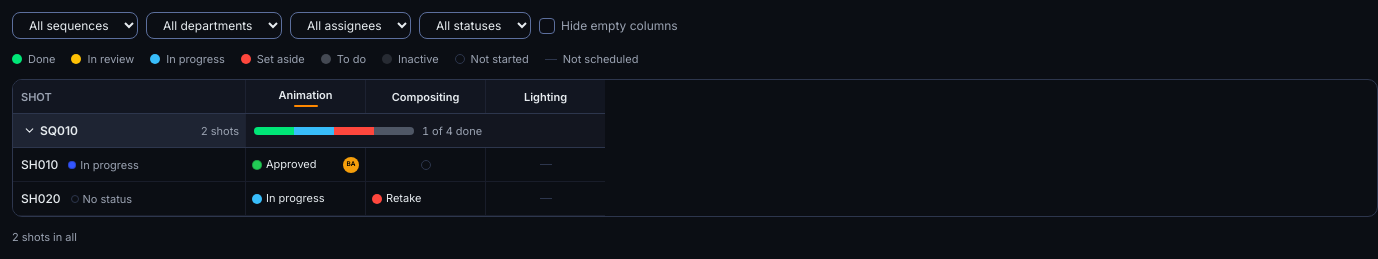
Test: ProductionGrid › offers status and assignment on the right-click of a cell
Click the button "Approved BA": (306, 164) [246,152,365,176]
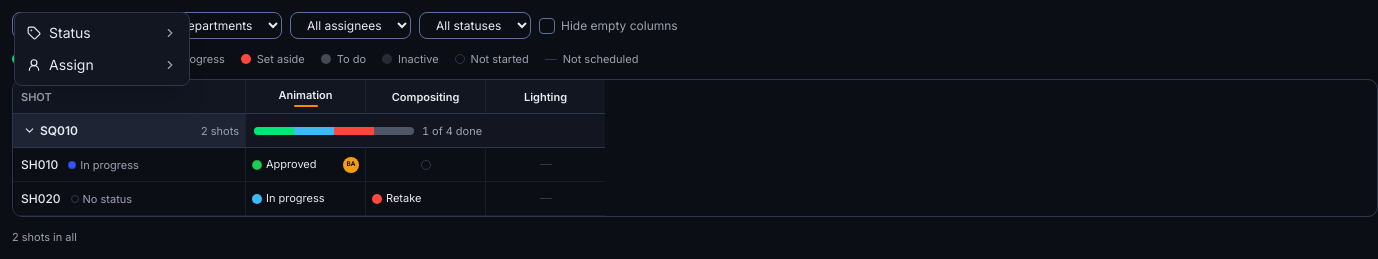
Now the menu item "Assign" is shown, box [27,56,177,73]
